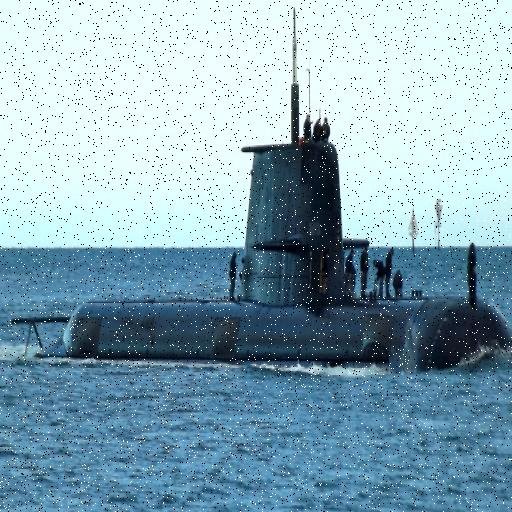submarine: (18, 5, 512, 376)
